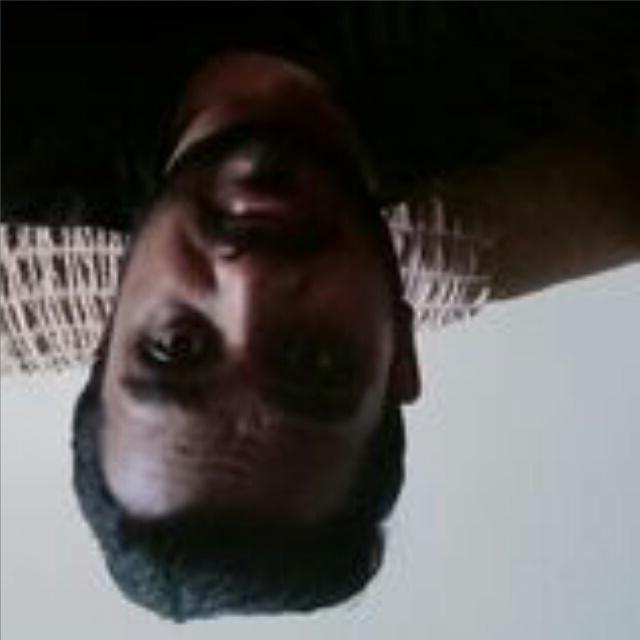Surprised: (97, 119, 465, 615)
